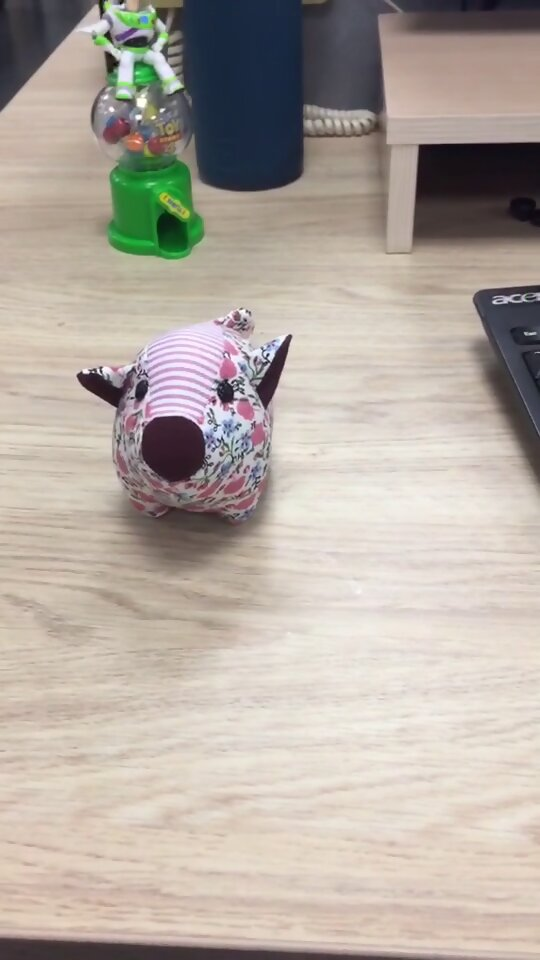pig: (74, 305, 293, 528)
